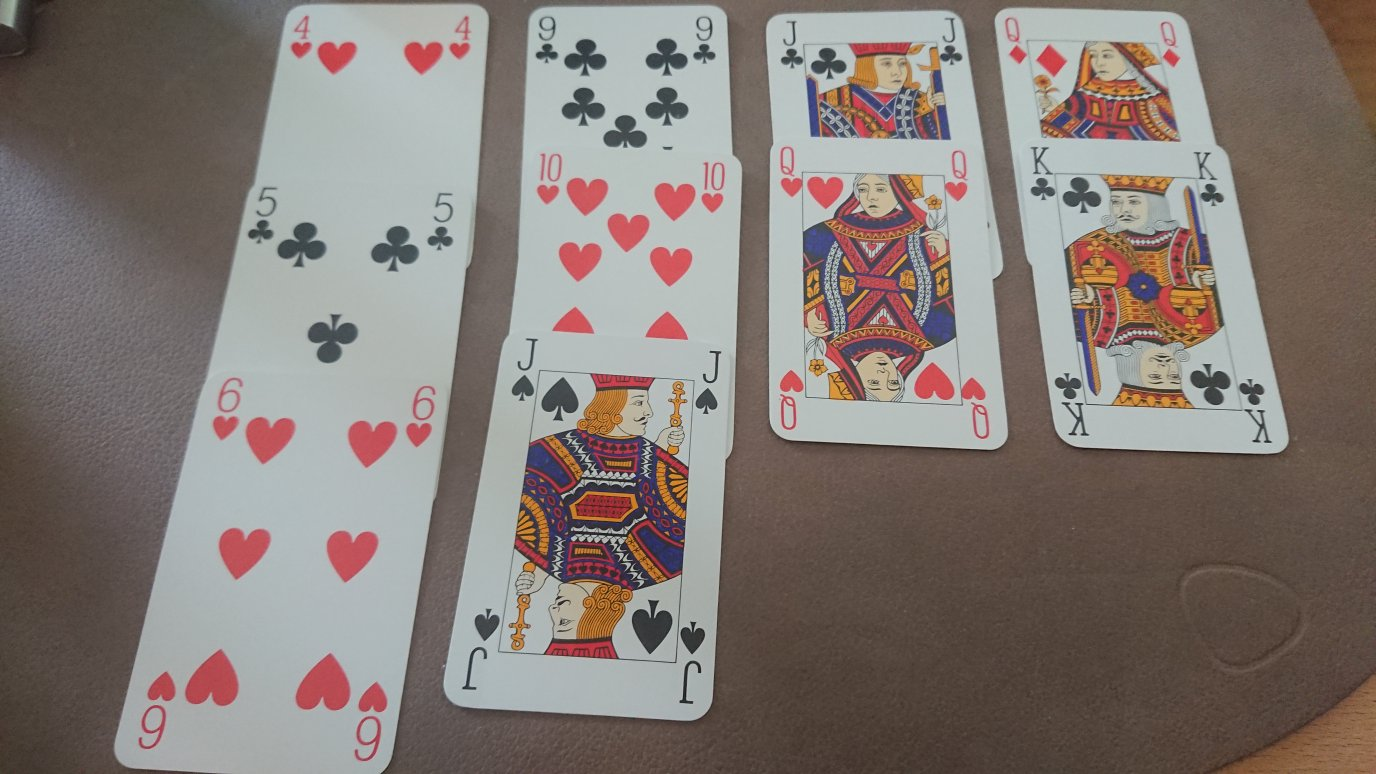10H: (696, 156, 730, 217), (534, 149, 564, 208)
4H: (446, 11, 476, 66), (287, 10, 317, 61)
5C: (424, 188, 461, 255), (244, 184, 281, 245)
6H: (402, 382, 440, 453), (209, 375, 247, 443)
9C: (689, 12, 721, 70), (532, 12, 561, 68)
JC: (935, 13, 967, 71), (778, 15, 806, 74)
JS: (509, 333, 546, 405), (692, 345, 727, 420)
KC: (1188, 147, 1230, 213), (1027, 141, 1060, 203)
QD: (1154, 18, 1187, 72), (1002, 14, 1031, 70)
QH: (774, 142, 807, 201), (941, 147, 974, 206)
